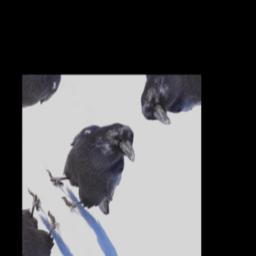Crow: (41, 99, 158, 237)
